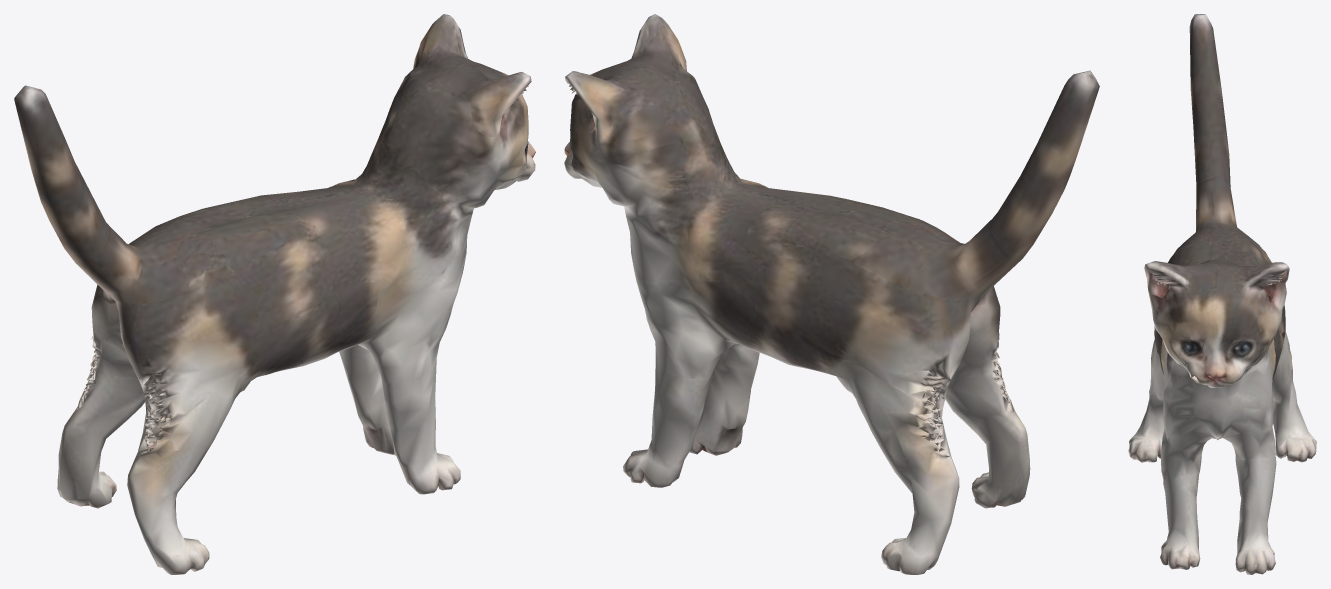
The model's file is ROKUCAT-lo.glb.
3 views of the same model, side by side, from view 1: azimuth 30°, elevation 25°; view 2: azimuth 150°, elevation 25°; view 3: azimuth 270°, elevation 25° (orthographic). The views are drawn at different scales.
Parts seen in each view (by area): view 1: tripo_node_9c08e774-3a39-48d9-9d3b-8f584c424ce8; view 2: tripo_node_9c08e774-3a39-48d9-9d3b-8f584c424ce8; view 3: tripo_node_9c08e774-3a39-48d9-9d3b-8f584c424ce8.
Part boxes in pixels (bbox=[...]): tripo_node_9c08e774-3a39-48d9-9d3b-8f584c424ce8: bbox=[14, 14, 535, 574]; tripo_node_9c08e774-3a39-48d9-9d3b-8f584c424ce8: bbox=[564, 14, 1099, 574]; tripo_node_9c08e774-3a39-48d9-9d3b-8f584c424ce8: bbox=[1128, 14, 1316, 574].
Size of the model in its own units: 1.13 by 0.9965 by 0.4313.
Materials: 1 (1 with a texture image).
